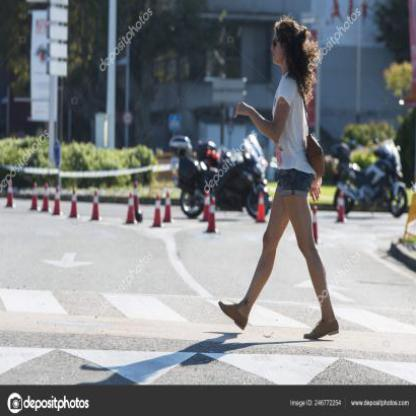person: (237, 18, 334, 348)
